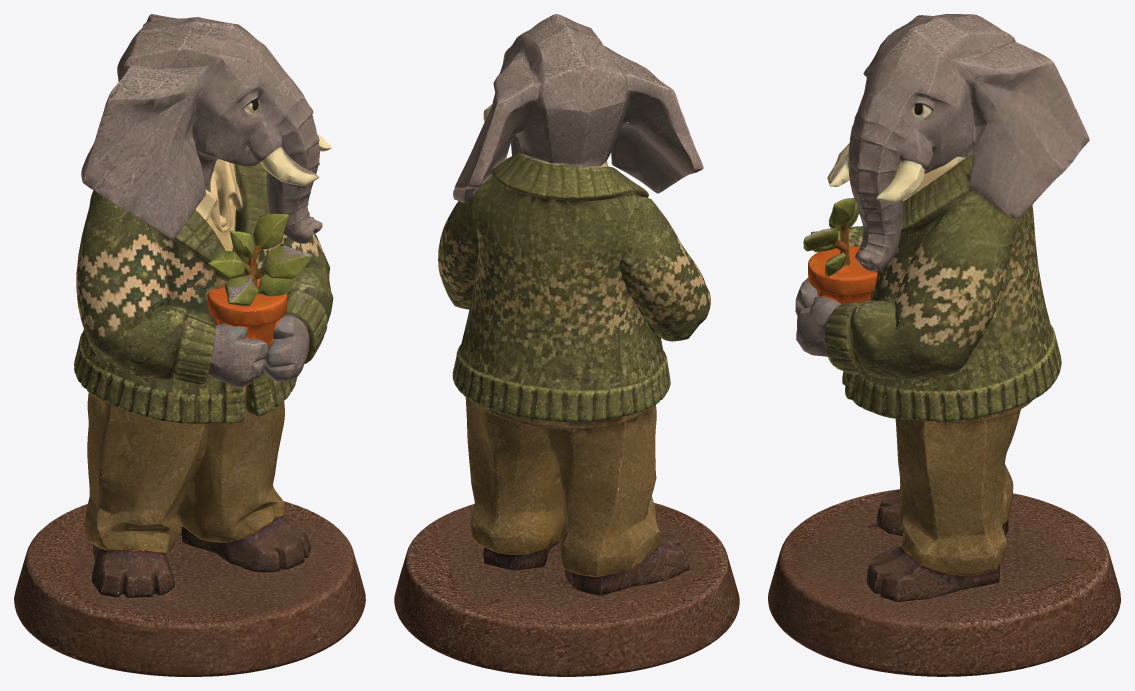
Rendered from web.glb.
3 views of the same model, side by side, from view 1: azimuth 30°, elevation 25°; view 2: azimuth 150°, elevation 25°; view 3: azimuth 270°, elevation 25° (orthographic). The views are drawn at different scales.
Visible parts, largest first — view 1: elephant; view 2: elephant; view 3: elephant.
Boxes of the visible parts, left/top/right/bottom form: elephant: left=14, top=14, right=365, bottom=676; elephant: left=394, top=14, right=739, bottom=676; elephant: left=768, top=14, right=1120, bottom=676.
Size of the model in its own units: 0.5463 by 1 by 0.5439.
Materials: 1 (1 with a texture image).
